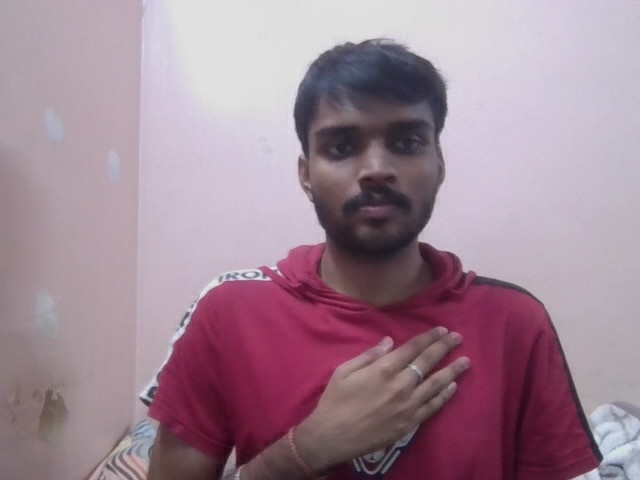Please: (318, 320, 485, 445)
